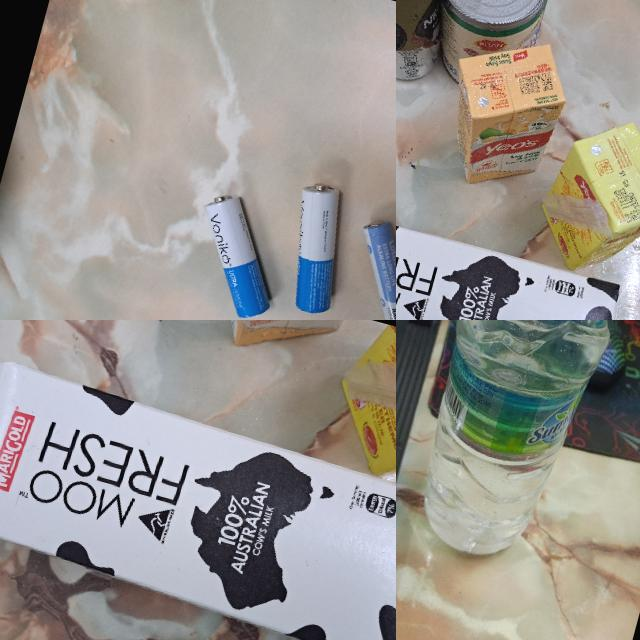bateria: (181, 189, 294, 320), (272, 178, 364, 319), (339, 216, 396, 320)
caixinha: (0, 342, 396, 640), (396, 187, 630, 320), (429, 20, 579, 201), (528, 105, 640, 292), (316, 320, 396, 508), (205, 320, 347, 370)
garrafa plástica: (396, 320, 629, 578)
lata: (412, 0, 561, 100), (396, 0, 473, 87)
